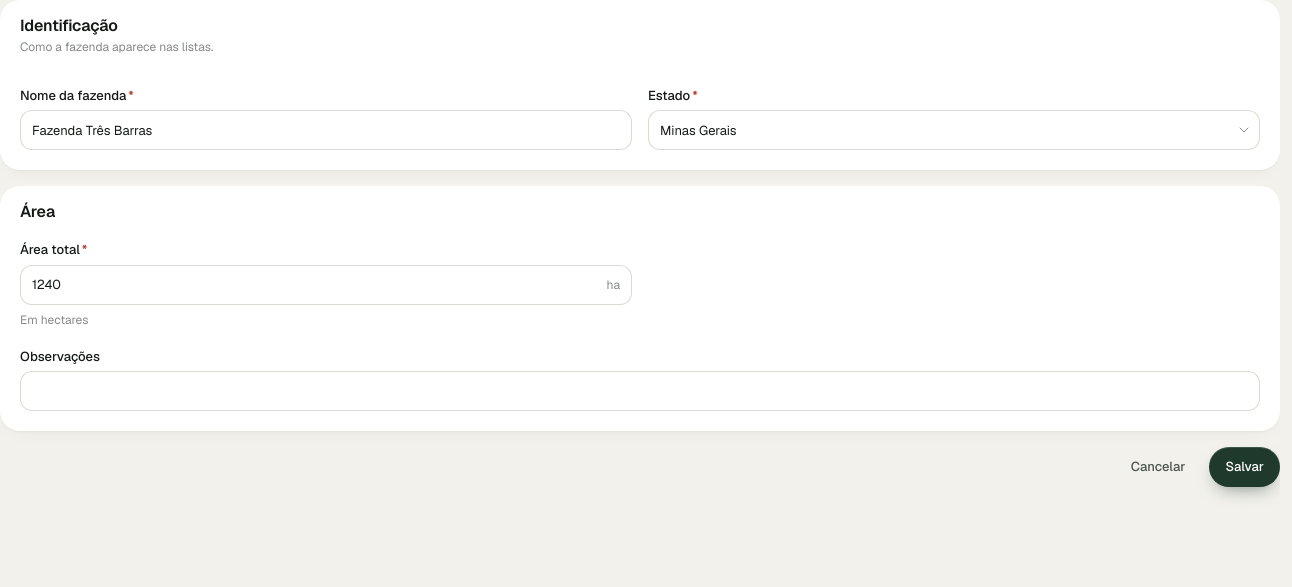
EntityForm › o erro geral some ao enviar de novo
This screenshot has width=1292, height=587.
Click the button "Salvar". click: x=1245, y=467
box: [1210, 447, 1280, 487]
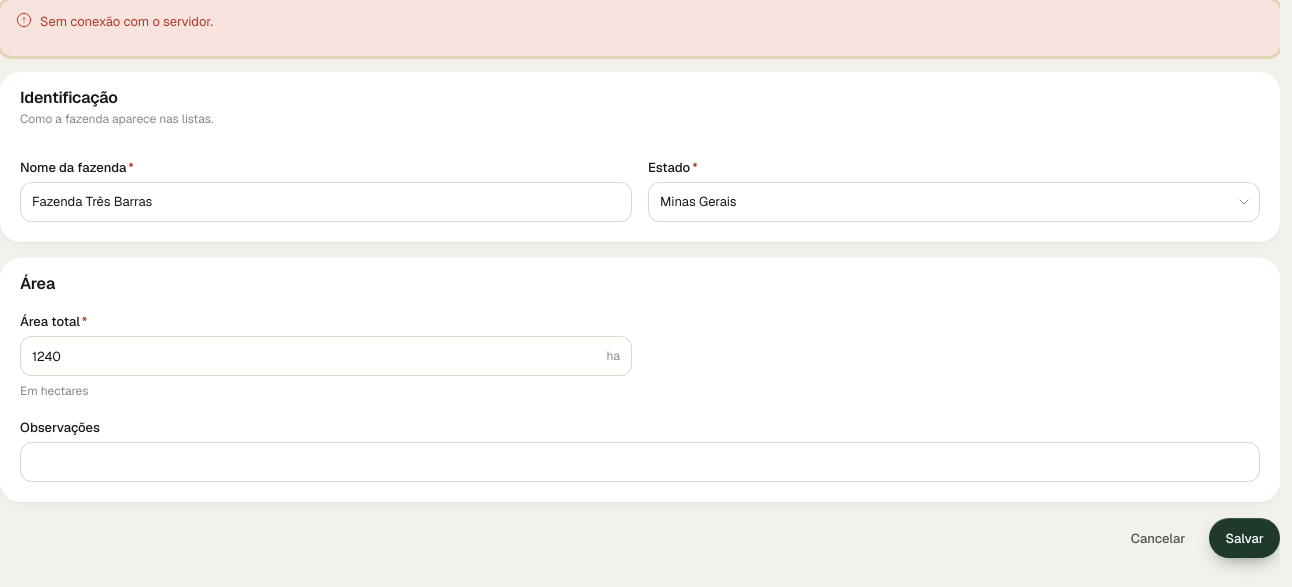
Now the message "Sem conexão com o servidor." is shown, box [0, 0, 1280, 56]
Click the button "Salvar". click: x=1245, y=538
box: [1210, 518, 1280, 558]
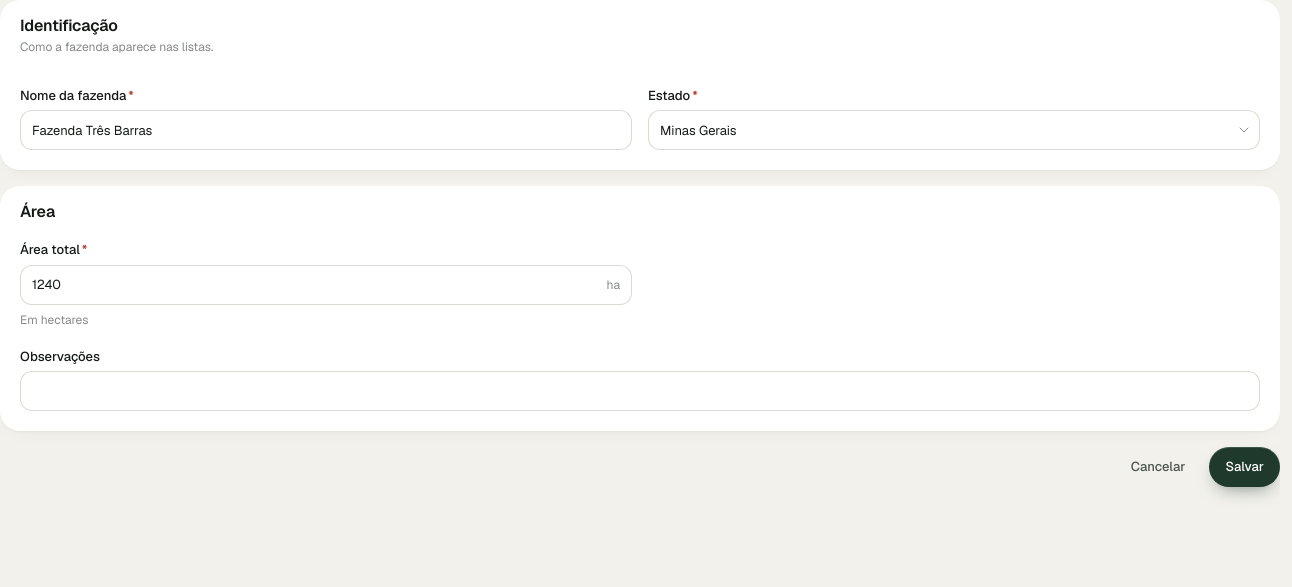
Now the message "Sem conexão com o servidor." is gone
